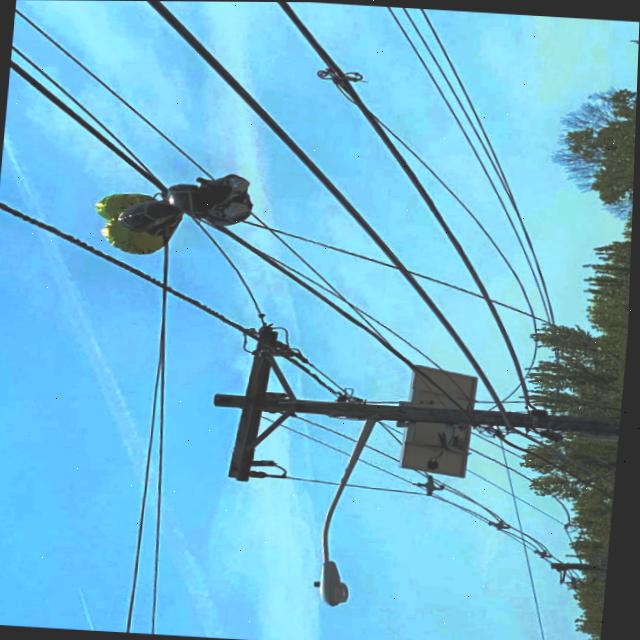obstruction: (97, 172, 259, 255)
poles: (217, 334, 622, 497)
wires: (149, 1, 383, 236), (328, 65, 520, 294), (11, 7, 168, 163), (299, 270, 481, 377), (132, 304, 172, 633)
